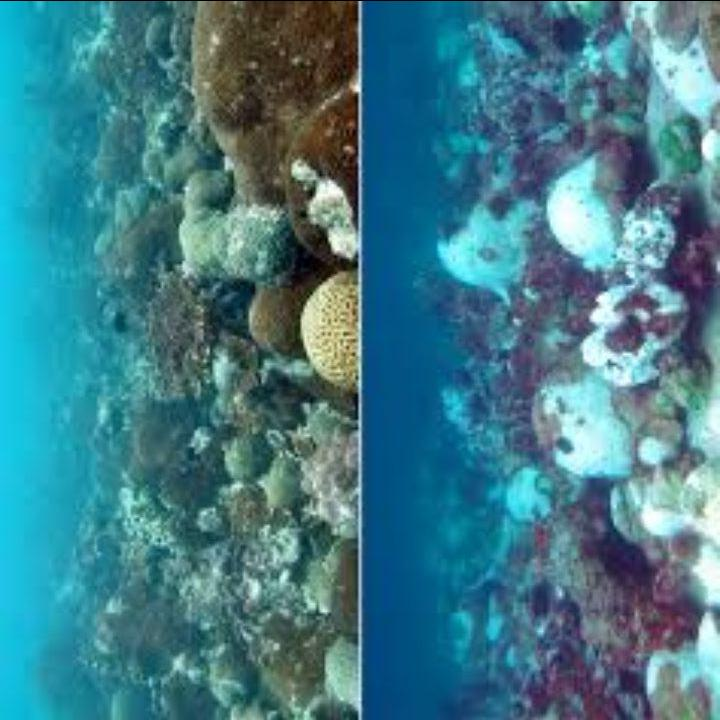Bleached disease: (517, 143, 705, 485), (427, 171, 558, 306)
Healthy Coral: (513, 479, 709, 720)
